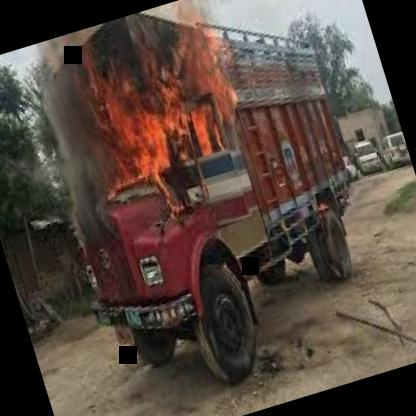fire: (34, 6, 270, 262)
